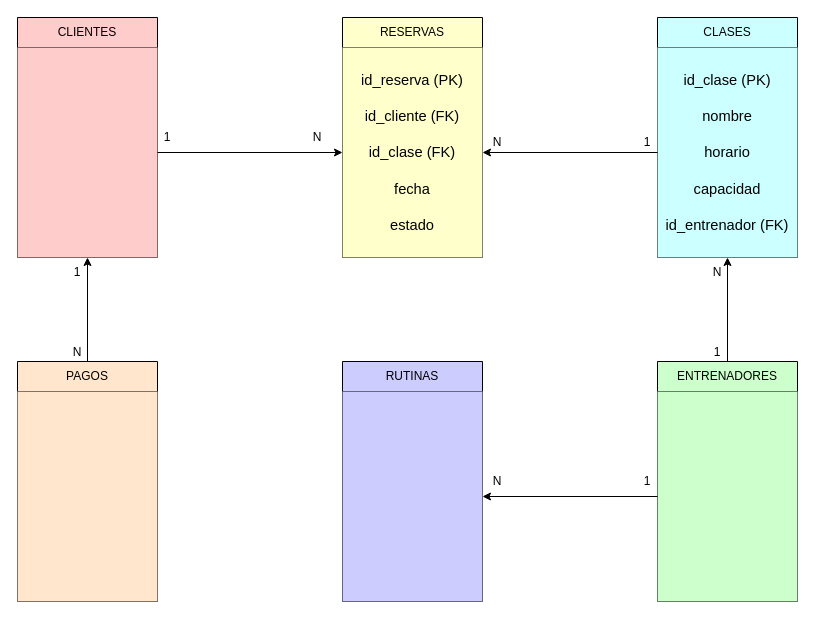
This 815x619 diagram has some shape labels left out. Each missing label, with the centre of its shape:
"id_cliente (PK) nombre apellidos dni telefono email fecha_alta estado" belongs at [87,152].
"id_entrenador (PK) nombre apellidos especialidad telefono" belongs at [727,496].
"id_pago (PK) id_cliente (FK) importe fecha" belongs at [87,496].
"id_rutina (PK) nombre descripcion nivel id_entrenador (FK)" belongs at [412,496].
